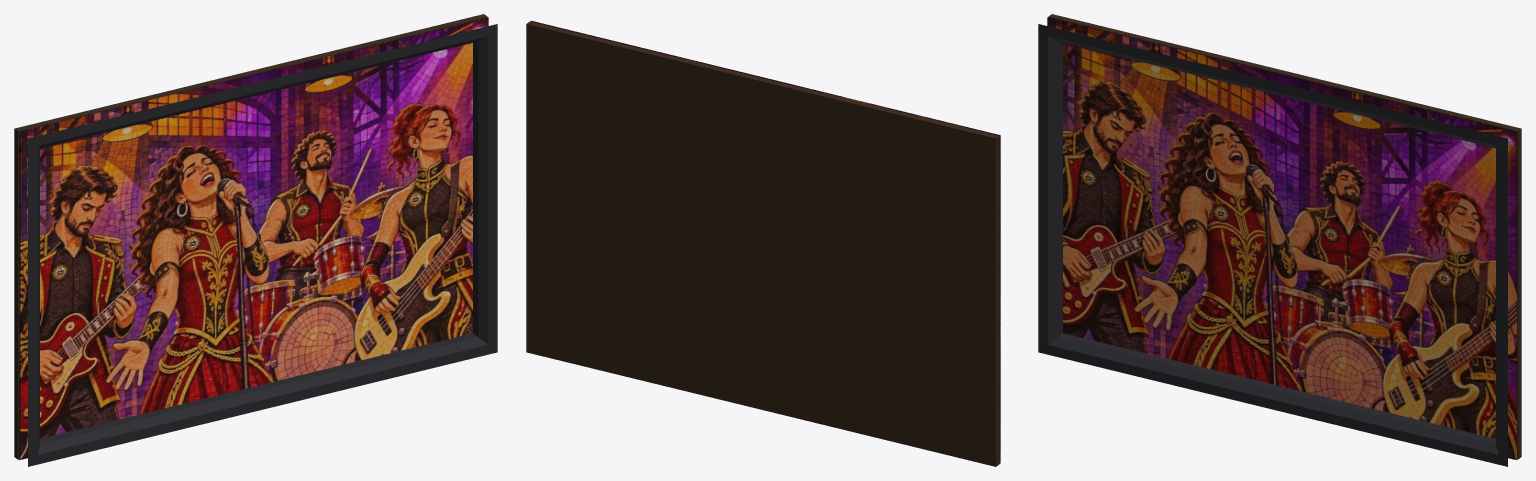
Rendered from quadro-show-medio.glb.
3 views of the same model, side by side, from view 1: azimuth 30°, elevation 25°; view 2: azimuth 150°, elevation 25°; view 3: azimuth 330°, elevation 25° (orthographic).
Bounding box in the file's own units: 1.5 × 1 × 0.075.
4 materials, 4 textured.
